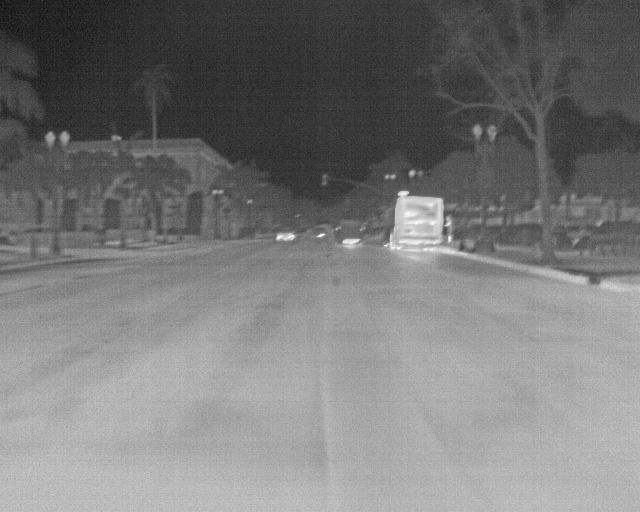car: (389, 191, 444, 252), (501, 223, 541, 243), (335, 219, 363, 244), (466, 223, 497, 241), (275, 224, 296, 241), (312, 224, 329, 239)
light: (322, 174, 327, 186)
sign: (476, 166, 494, 187)
